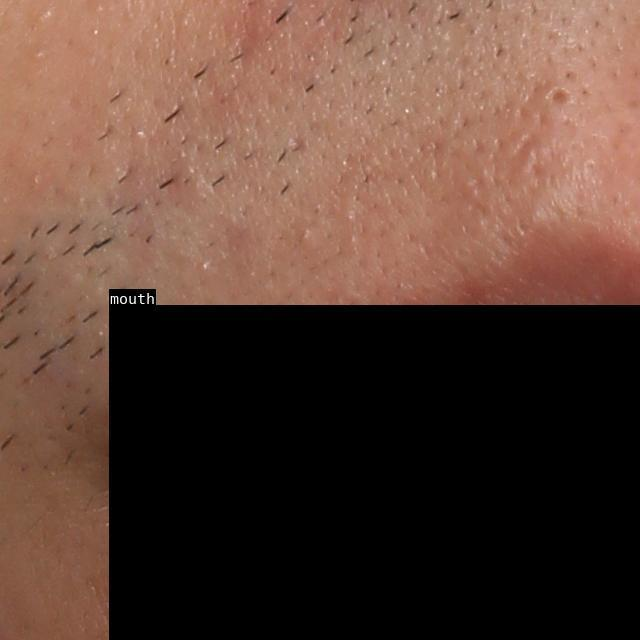comedo: (541, 84, 576, 112)
